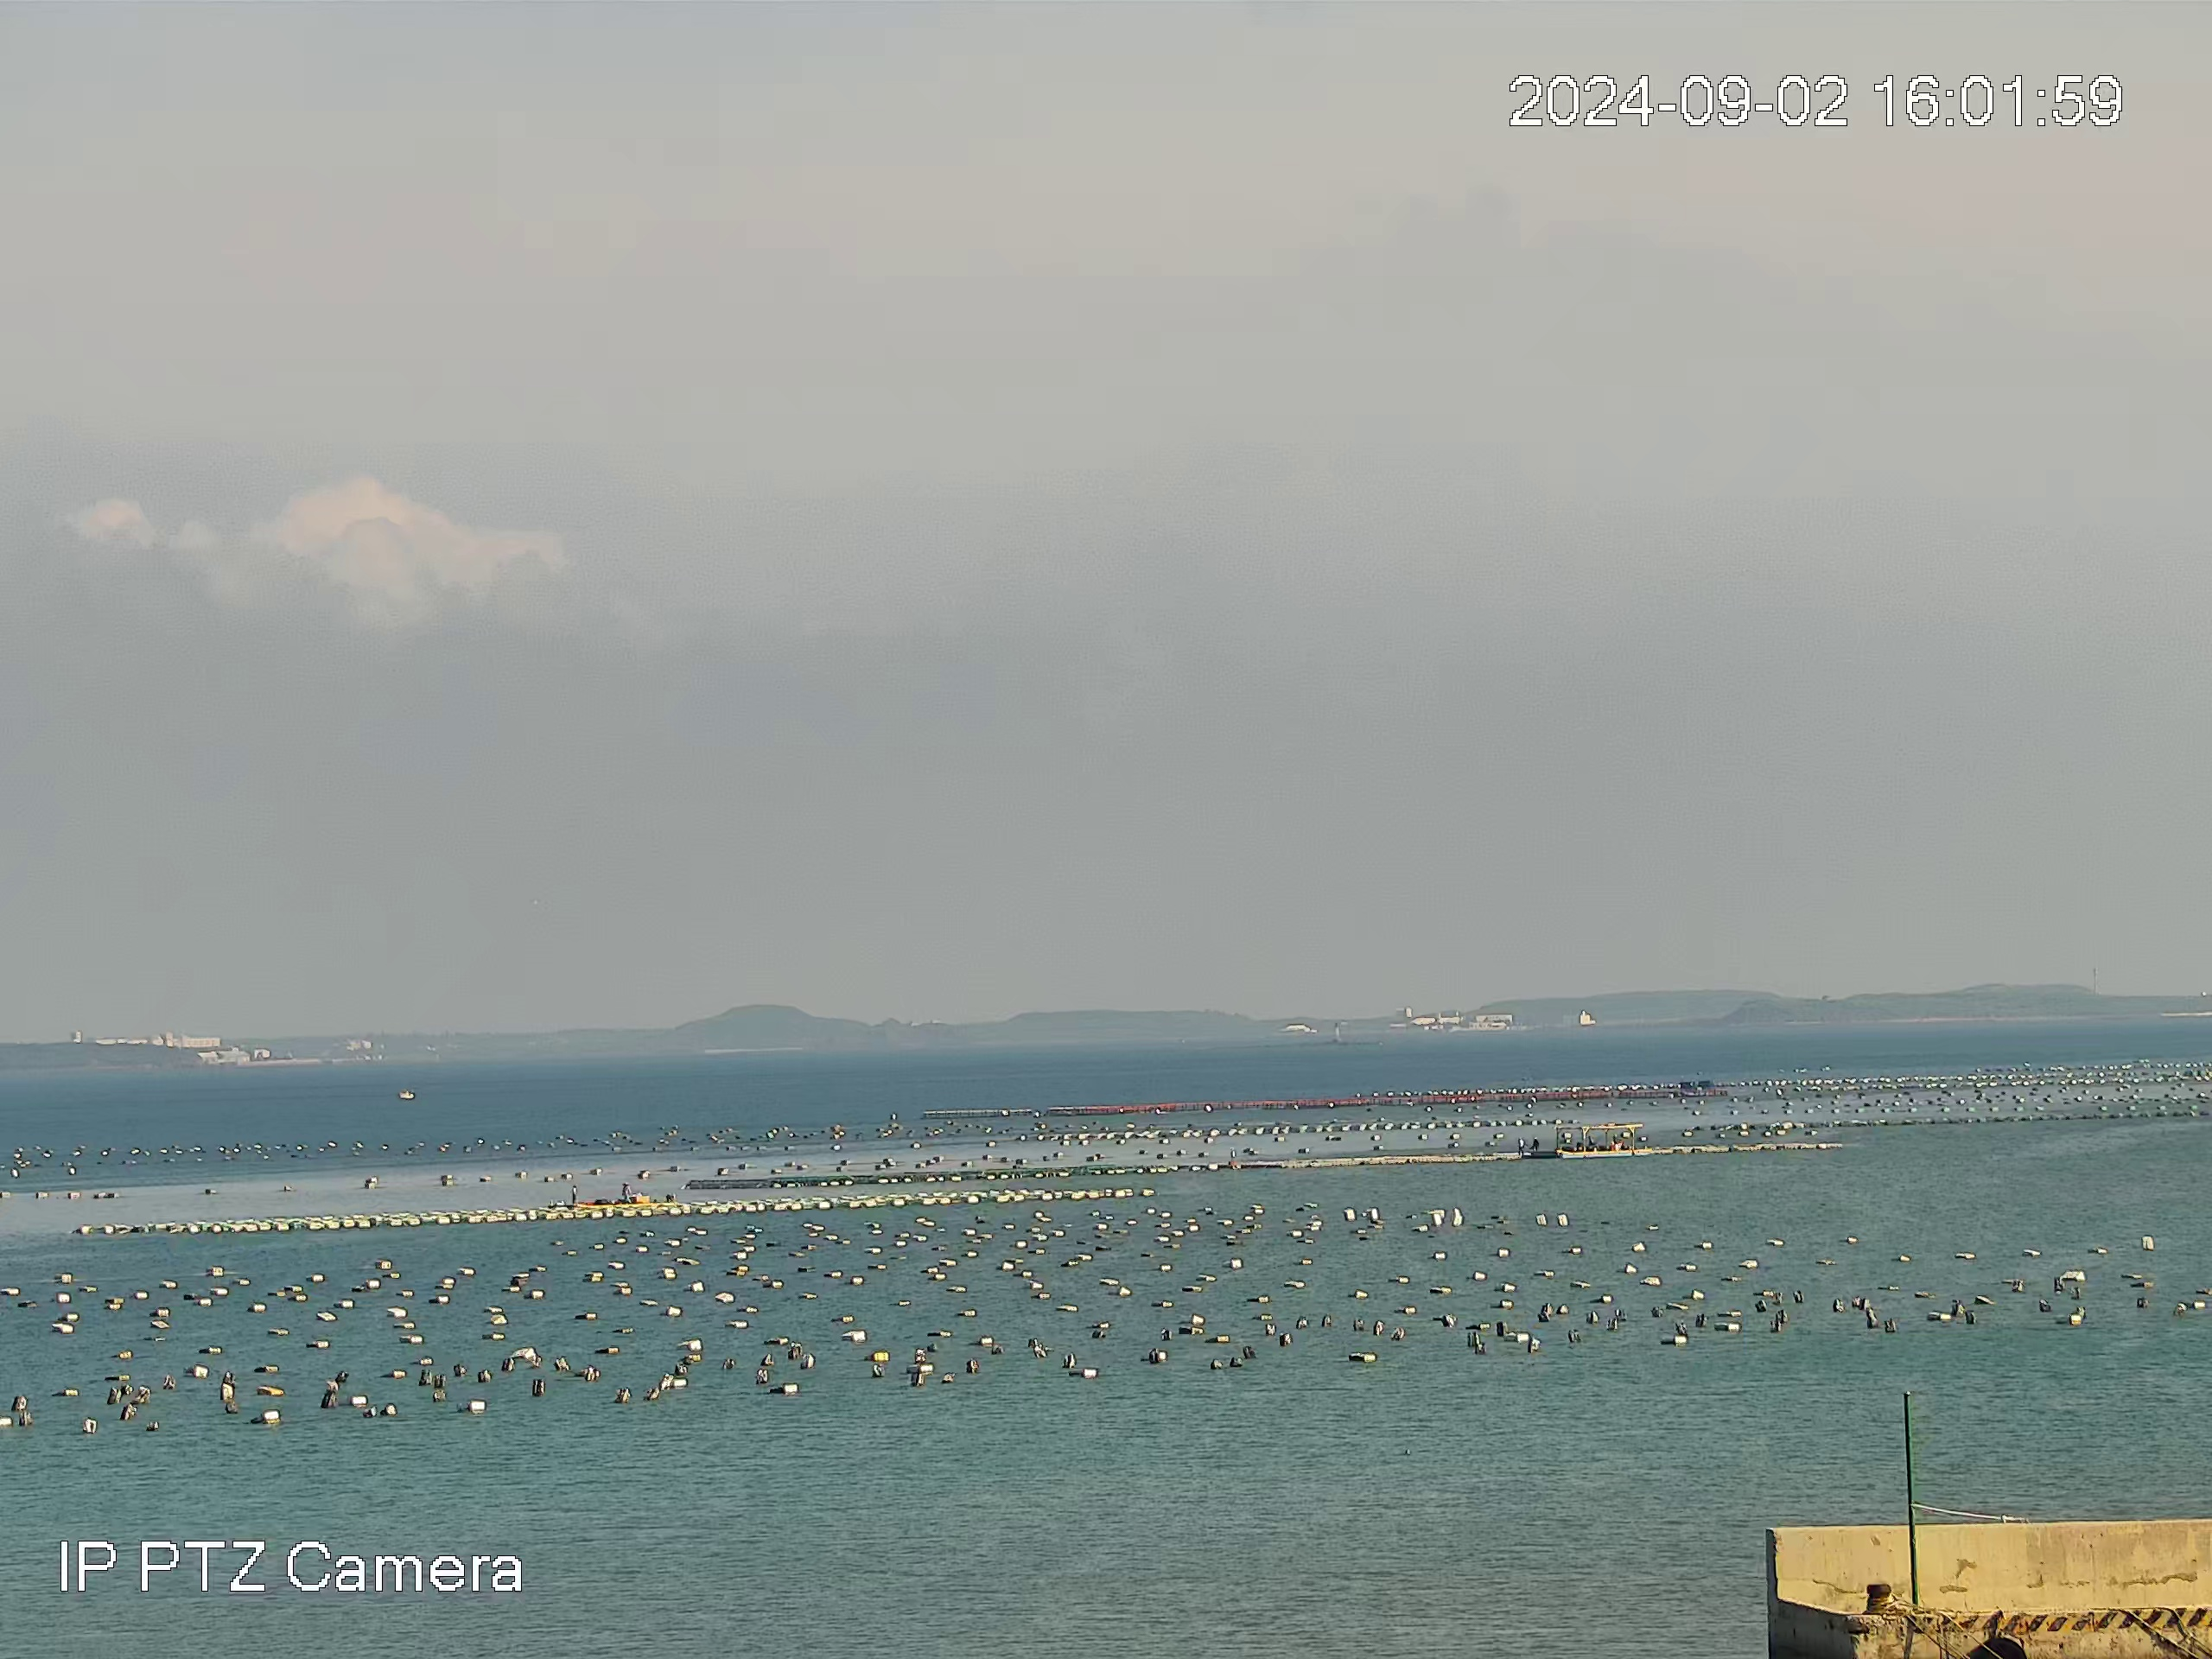boat: (1554, 1122, 1653, 1161), (571, 1183, 679, 1208), (397, 1089, 415, 1100)
